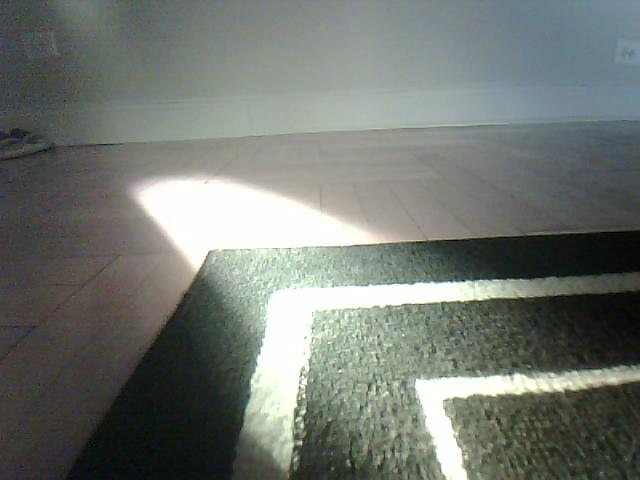curved-road-line: (262, 267, 640, 314), (416, 359, 640, 401)
road-line: (224, 287, 321, 480), (413, 377, 475, 480)
